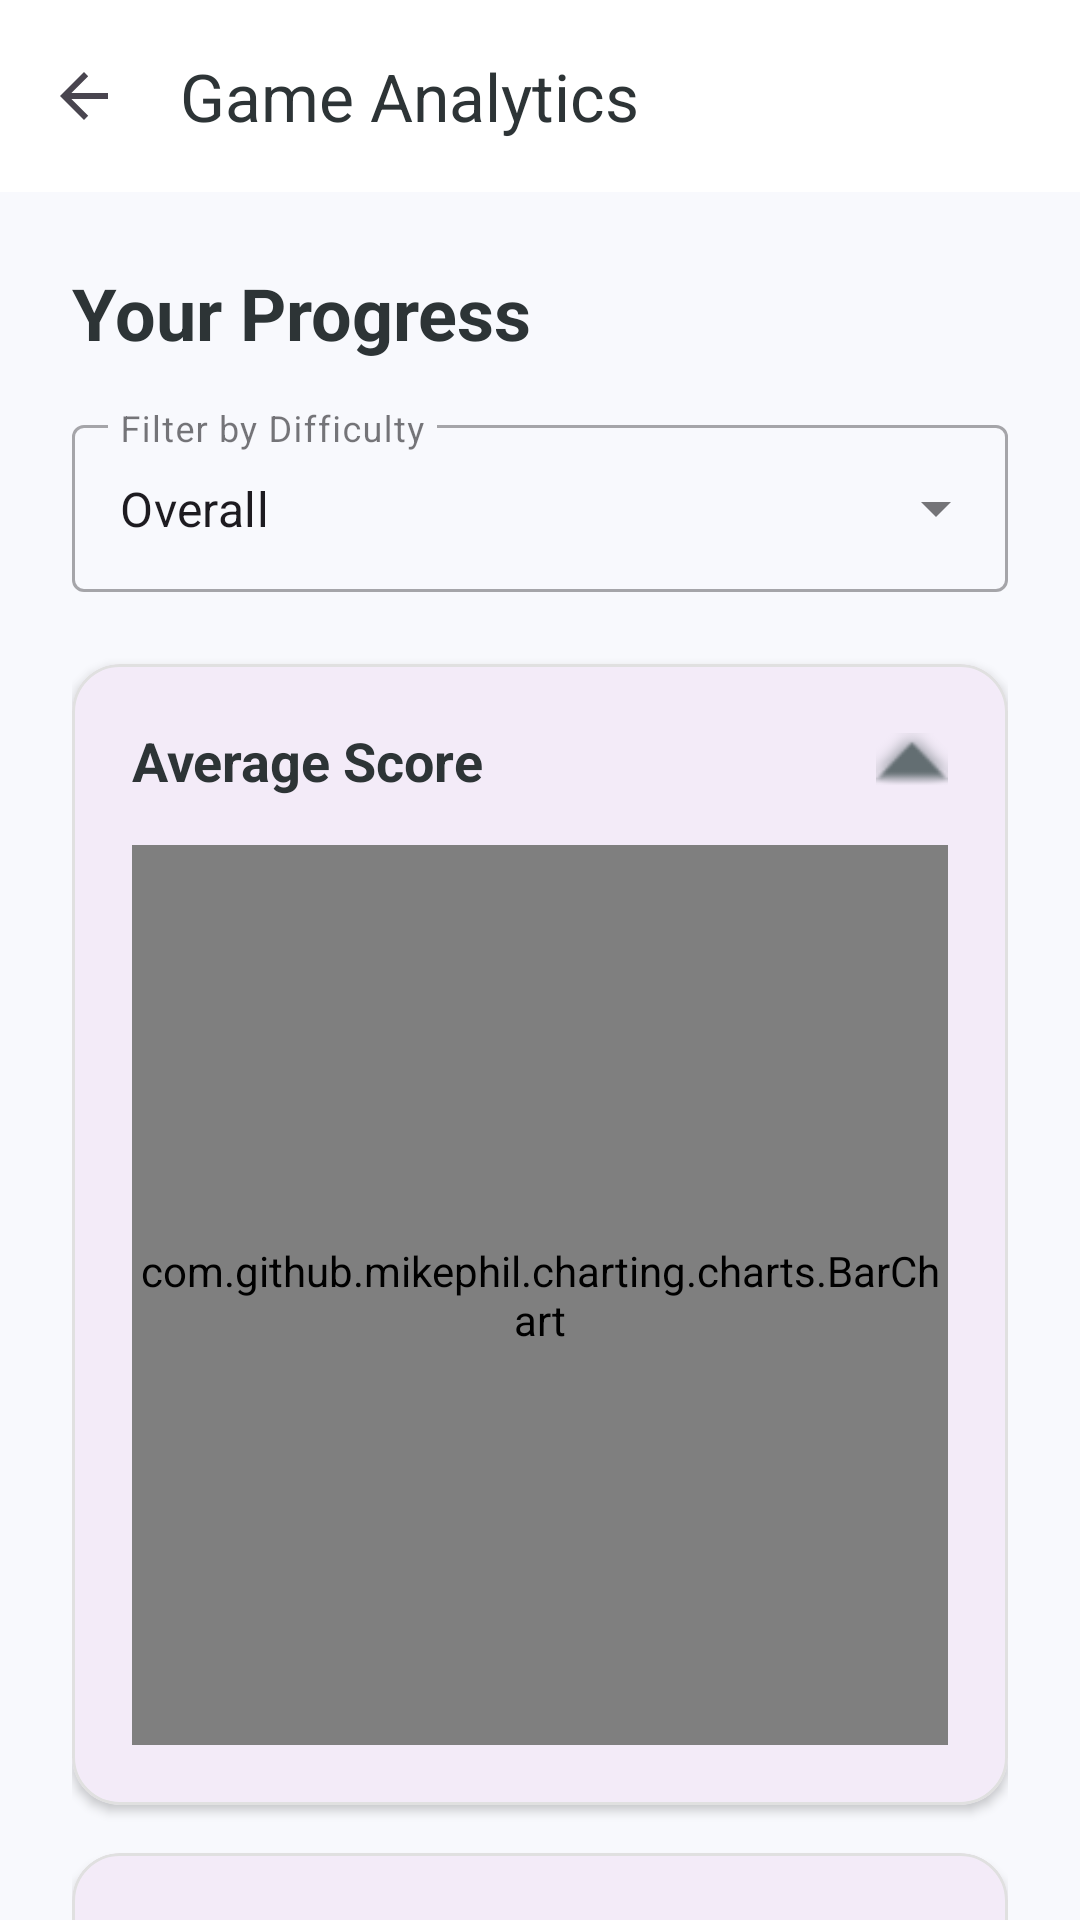

Point at icon controls on the screen. Image size 1080 × 1920, points as [x,y].
arrow up float: [912,761]
